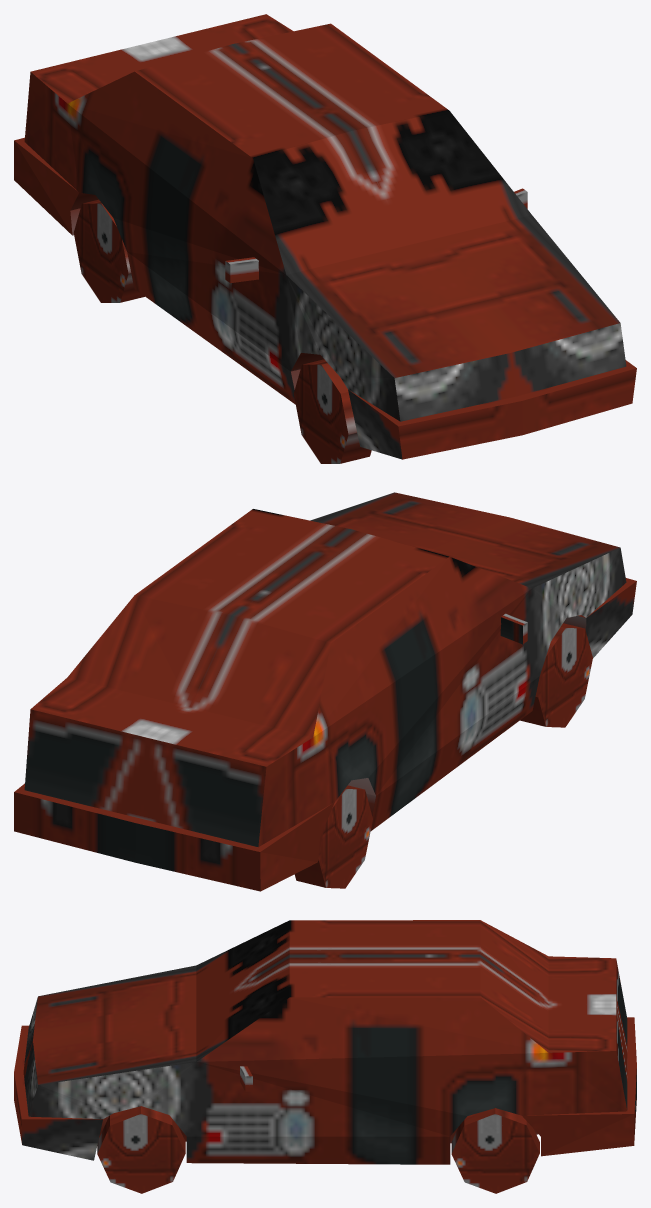
The model's file is car1.obj.
The picture shows the model from 3 angles, top to bottom: view 1: azimuth 30°, elevation 25°; view 2: azimuth 150°, elevation 25°; view 3: azimuth 270°, elevation 25°; orthographic projection. The views are drawn at different scales.
Visible parts, largest first — view 1: Car2; view 2: Car2; view 3: Car2.
Boxes of the visible parts, box(x1,y1,x2,y2) form: Car2: box(14, 14, 636, 463); Car2: box(14, 492, 636, 891); Car2: box(14, 920, 636, 1193).
Bounding box in the file's own units: 2.9 × 2.2 × 6.53.
